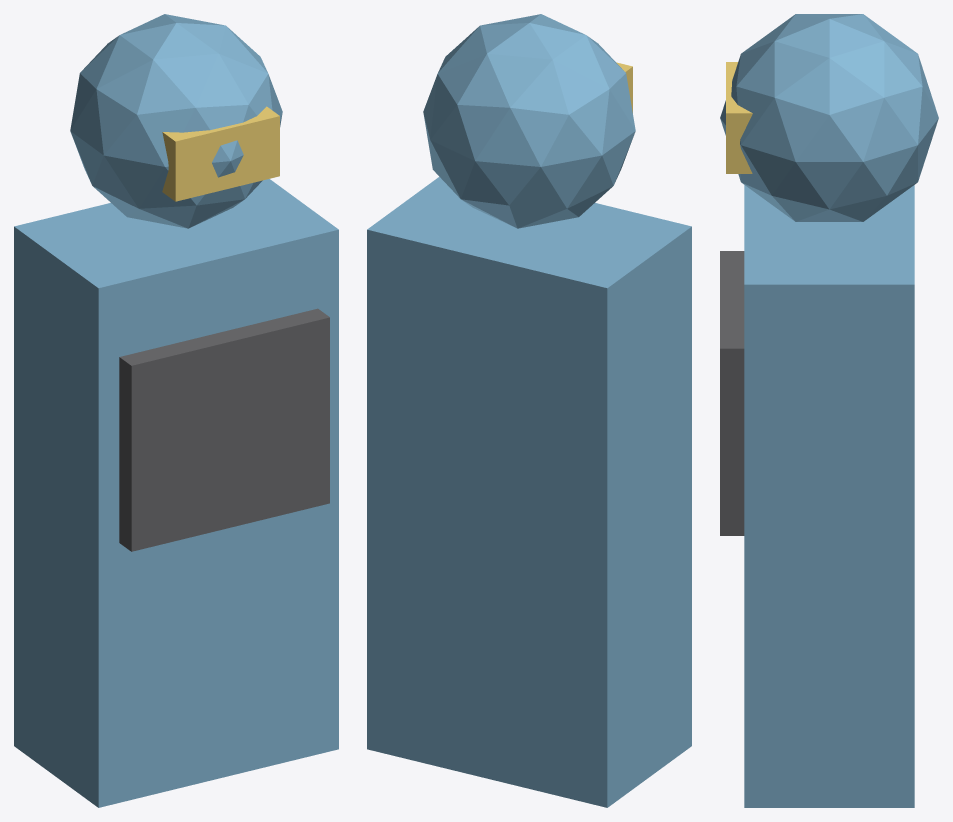
Rendered from SM_ScientistHazmatRifle.fbx.
The picture shows the model from 3 angles, left to right: view 1: azimuth 30°, elevation 25°; view 2: azimuth 150°, elevation 25°; view 3: azimuth 270°, elevation 25°; orthographic projection.
Parts seen in each view (by area): view 1: SM_ScientistHazmatRifle; view 2: SM_ScientistHazmatRifle; view 3: SM_ScientistHazmatRifle.
Part boxes in pixels (bbox=[...]): SM_ScientistHazmatRifle: bbox=[14, 14, 338, 807]; SM_ScientistHazmatRifle: bbox=[367, 14, 691, 807]; SM_ScientistHazmatRifle: bbox=[720, 14, 938, 807].
Size of the model in its own units: 4600 by 3600 by 13250.
